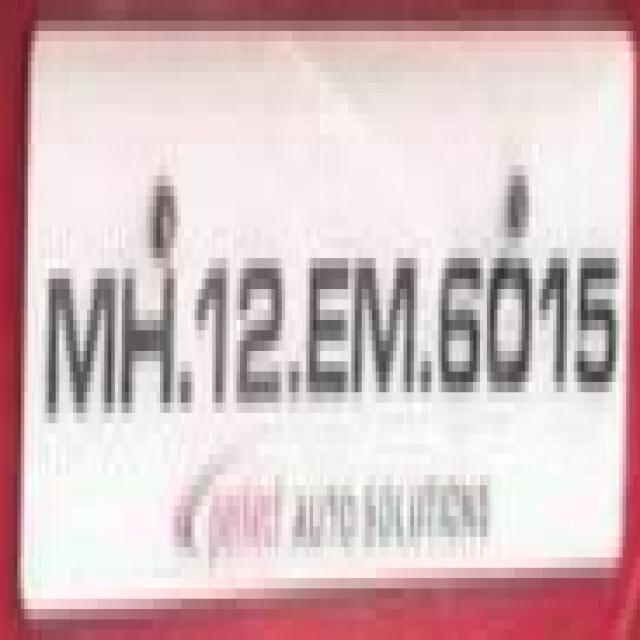license_plate: (21, 41, 640, 578)
